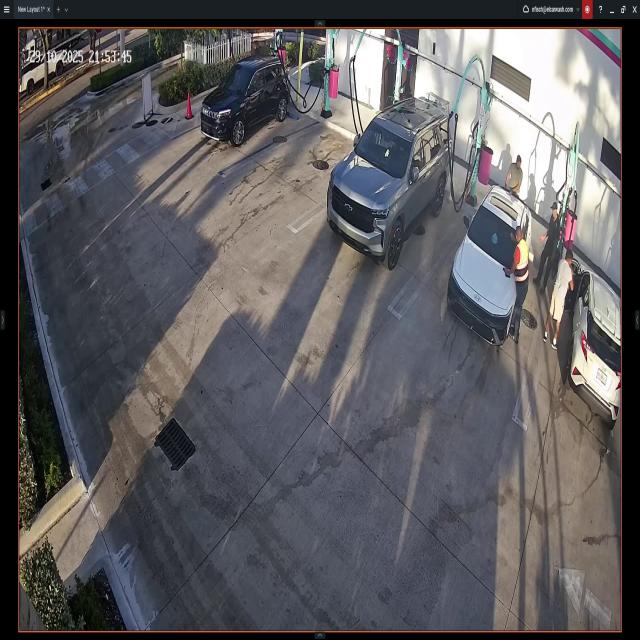Car: (326, 98, 454, 268), (448, 187, 532, 345), (560, 253, 620, 425), (200, 57, 291, 149)
